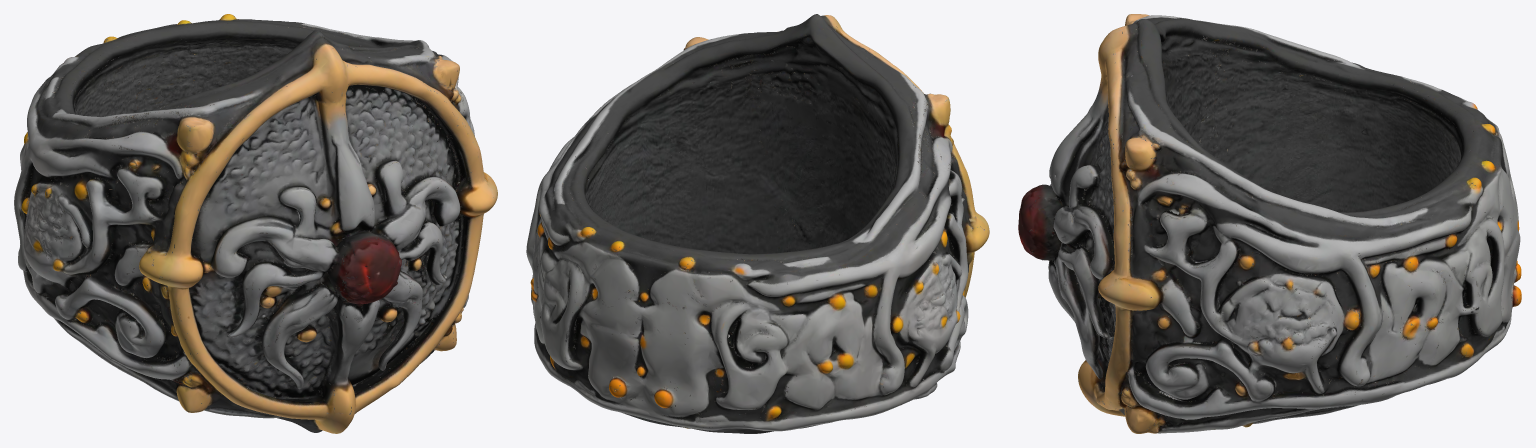
Rendered from ring-2027.glb.
3 renders of one model, left to right at view 1: azimuth 30°, elevation 25°; view 2: azimuth 150°, elevation 25°; view 3: azimuth 270°, elevation 25°, orthographic. The views are drawn at different scales.
Bounding box in the file's own units: 1.94 × 1.79 × 2.
Materials: 1 (1 with a texture image).
